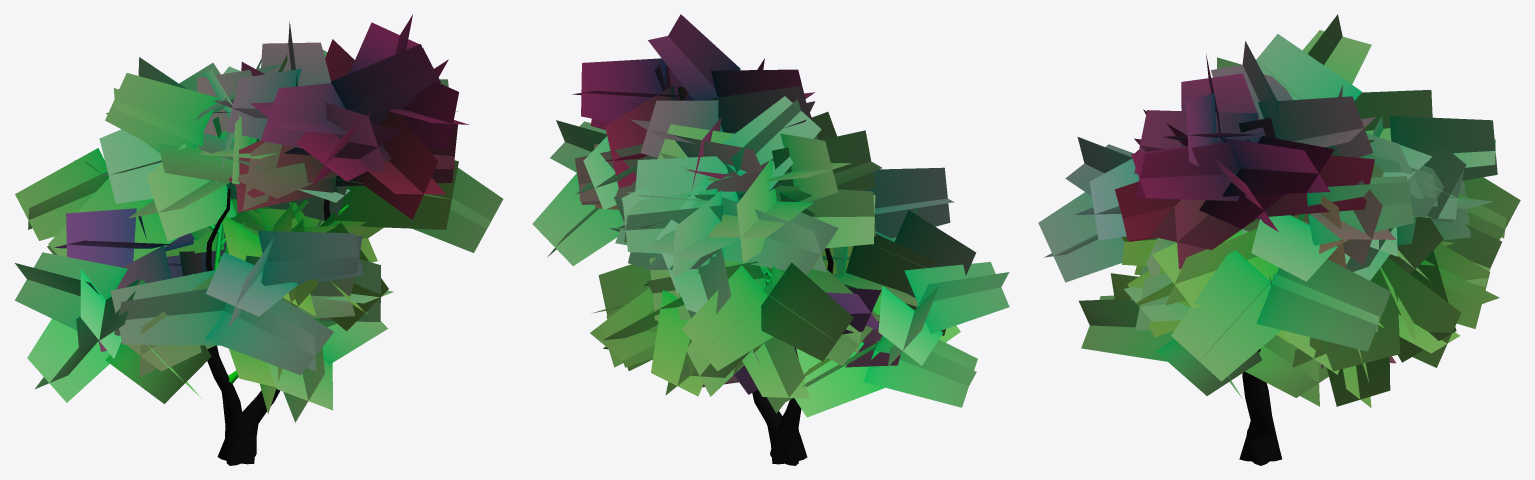
Rendered from M_Realistic12_15.fbx.
3 renders of one model, left to right at view 1: azimuth 30°, elevation 25°; view 2: azimuth 150°, elevation 25°; view 3: azimuth 270°, elevation 25°, orthographic. The views are drawn at different scales.
Parts seen in each view (by area): view 1: Tree_15; view 2: Tree_15; view 3: Tree_15.
Boxes of the visible parts, box(x1,y1,x2,y2) form: Tree_15: box(15, 14, 503, 465); Tree_15: box(532, 14, 1009, 465); Tree_15: box(1038, 14, 1520, 465).
Size of the model in its own units: 1517 by 1312 by 1330.
